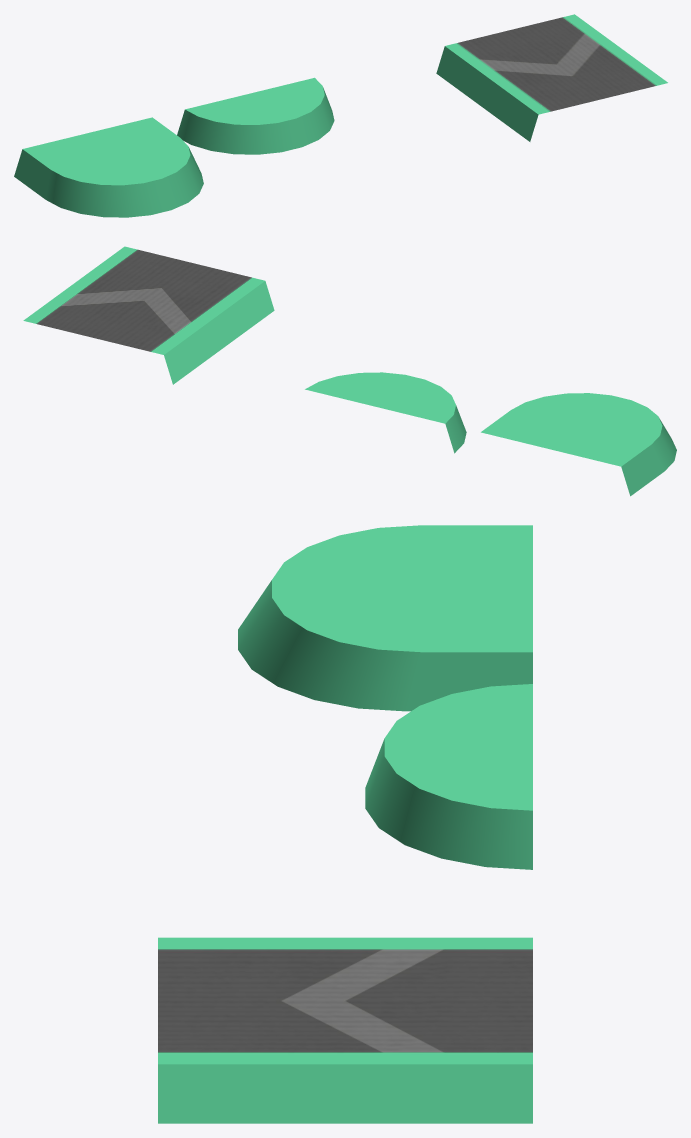
Rendered from belt-mk2.glb.
The picture shows the model from 3 angles, top to bottom: view 1: azimuth 30°, elevation 25°; view 2: azimuth 150°, elevation 25°; view 3: azimuth 270°, elevation 25°; orthographic projection. The views are drawn at different scales.
Visible parts, largest first — view 1: segment, head-long, head-short; view 2: segment, head-long, head-short; view 3: segment, head-long, head-short.
Part boxes in pixels (box(x1,y1,x2,y2)): segment: box(436, 14, 667, 141); head-long: box(14, 117, 203, 217); head-short: box(177, 77, 334, 154); segment: box(23, 246, 274, 384); head-long: box(481, 393, 676, 496); head-short: box(305, 372, 466, 453); segment: box(158, 937, 532, 1123); head-long: box(238, 525, 532, 711); head-short: box(365, 684, 532, 869).
Size of the model in its own units: 3.5 by 0.15 by 1.
Materials: 2 (2 with a texture image).
